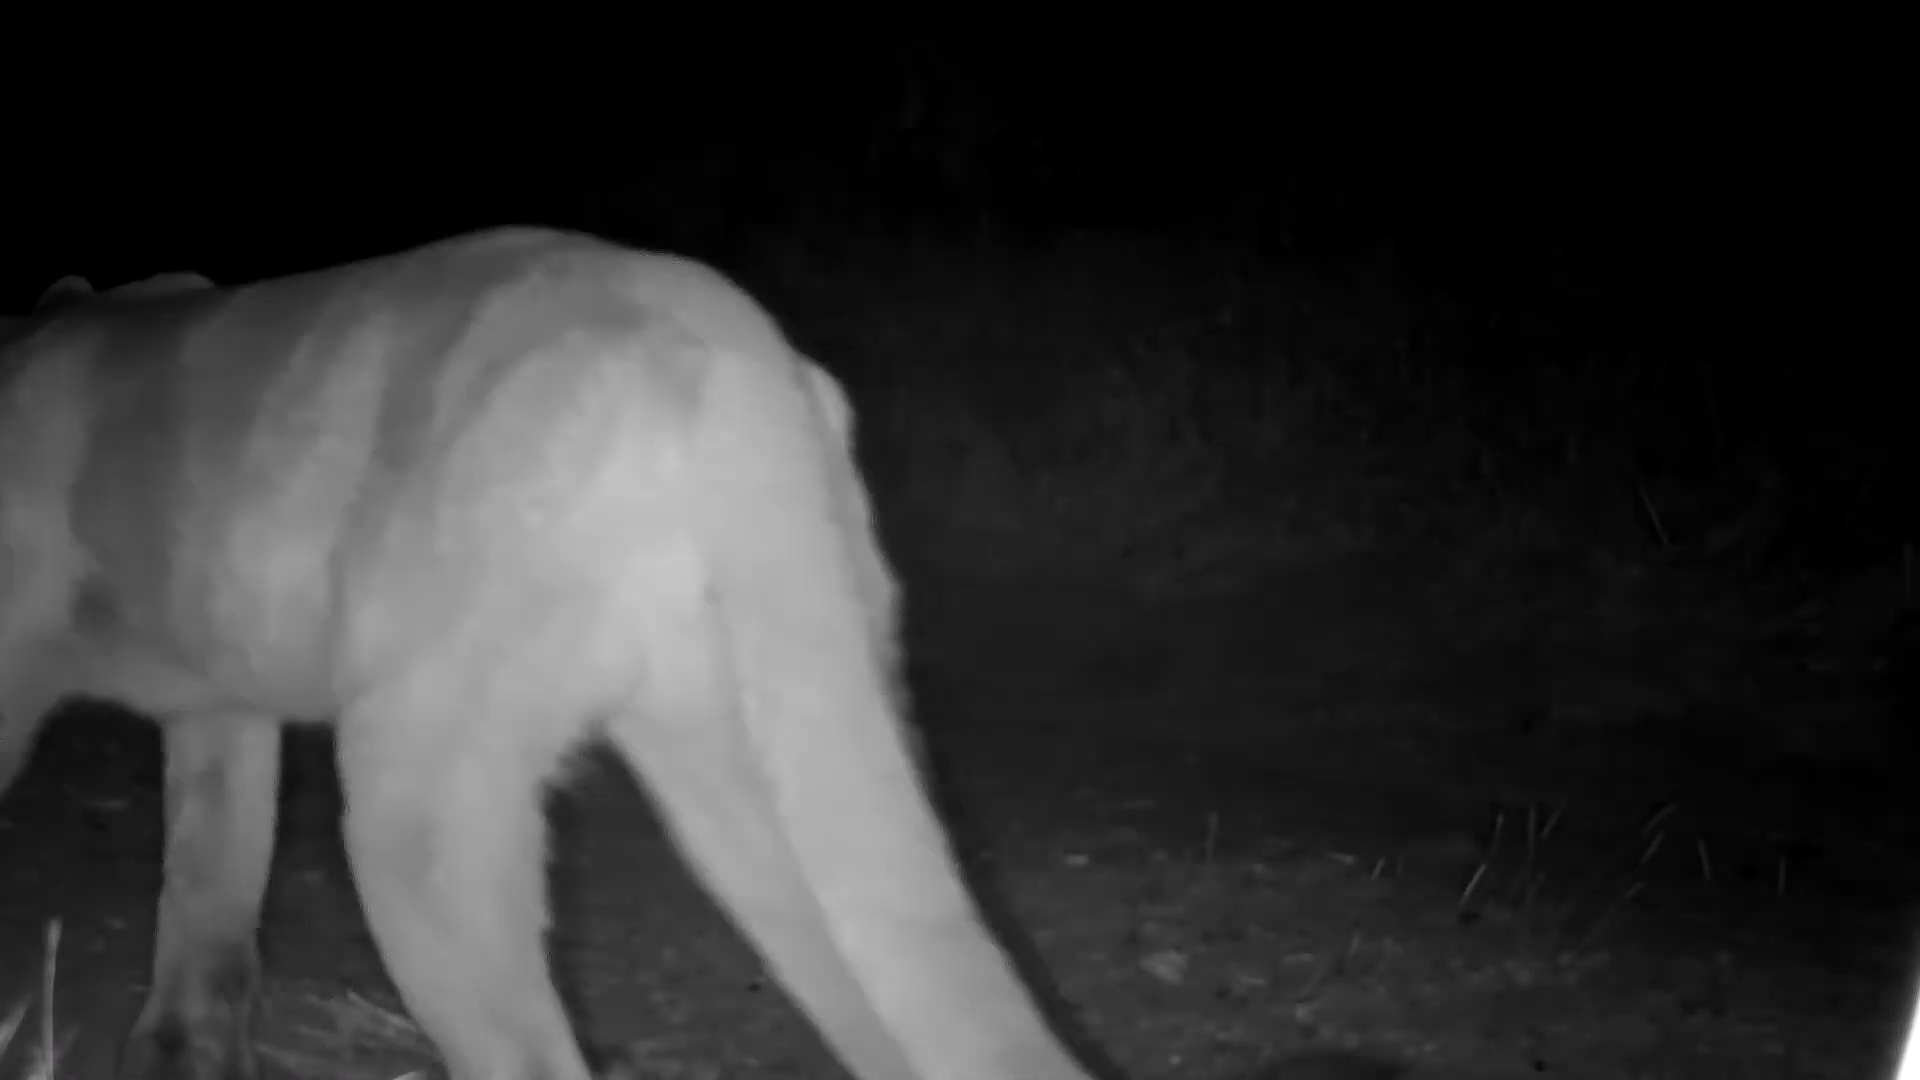Lion: (3, 225, 1091, 1080)
